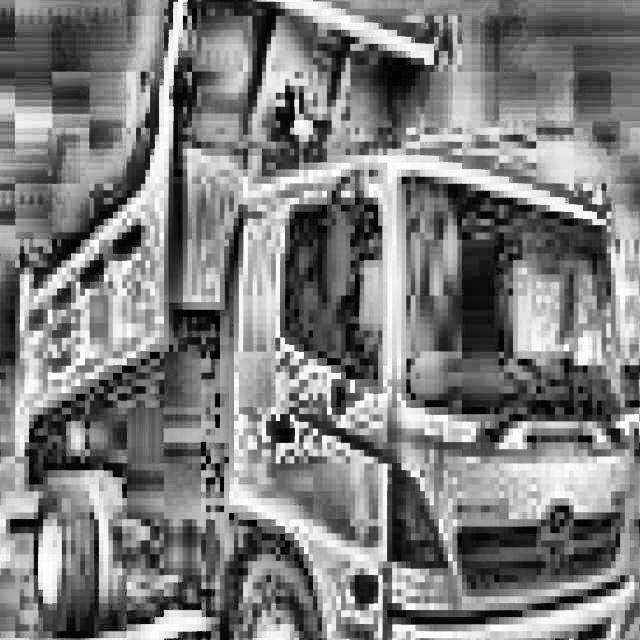dump_truck: (8, 85, 639, 640)
